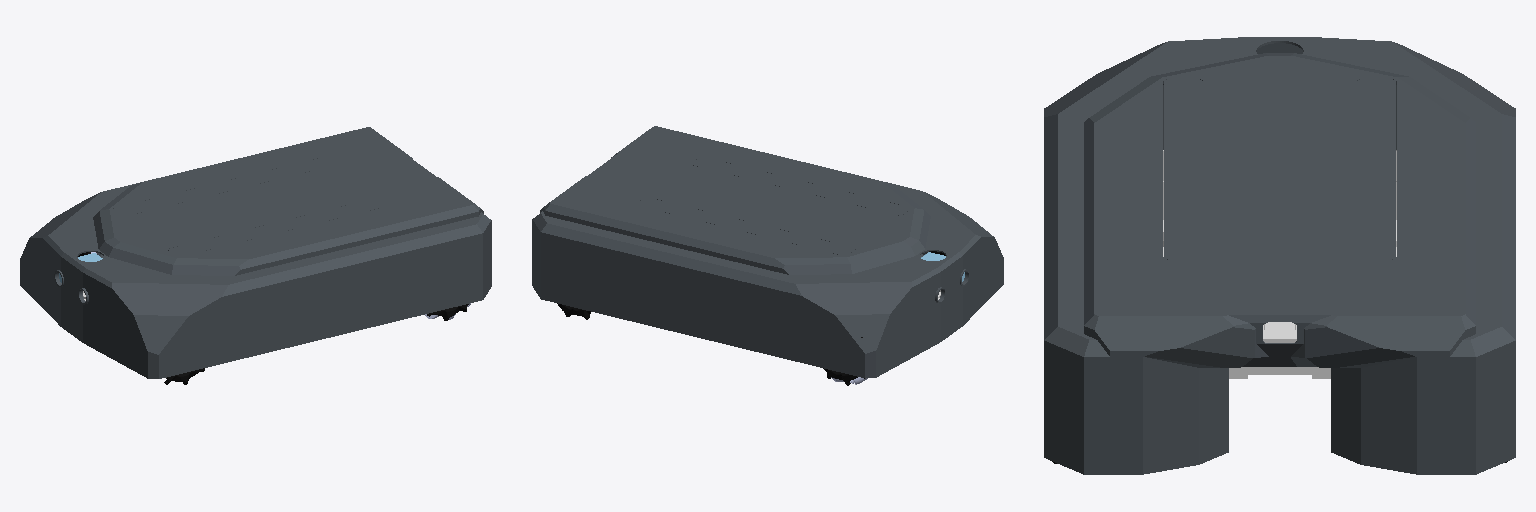
--- What the picture shows (computed from the rendered views, not written in the file) ---
Views: 3 orthographic renders of the robot side by side, from view 1: azimuth 30°, elevation 25°; view 2: azimuth 150°, elevation 25°; view 3: azimuth 270°, elevation 25°.
Robot: sora — 7 links, 6 joints (4 continuous, 2 prismatic); root link baseplate; default pose: all joints at 0.
Links seen in each view (by area): view 1: baseplate, liftingmechanism_2, liftingmechanism; view 2: baseplate, liftingmechanism, liftingmechanism_2; view 3: baseplate, liftingmechanism, liftingmechanism_2.
Link boxes in pixels (<box>): baseplate: <box>20,127,491,378</box>; liftingmechanism_2: <box>168,198,387,256</box>; liftingmechanism: <box>113,158,332,215</box>; baseplate: <box>532,126,1003,378</box>; liftingmechanism: <box>636,197,855,255</box>; liftingmechanism_2: <box>691,157,910,215</box>; baseplate: <box>1044,37,1515,474</box>; liftingmechanism: <box>1357,79,1395,259</box>; liftingmechanism_2: <box>1164,79,1202,259</box>.
Size in the robot's own frame: 0.561 by 0.358 by 0.1483 metres.
72 mesh visuals loaded from 31 distinct referenced files (29 binary STL); not drawn: 20 (reference not matched to a file when rendering).

The robot description file, URDF, robot "sora":
<?xml version='1.0' encoding='utf-8'?>
<robot name="sora">
  
  <link name="baseplate">
    <inertial>
      <origin xyz="0.119135 0 0.0201995" rpy="0 0 0" />
      <mass value="7.5335" />
      <inertia ixx="0.0807944" ixy="2.24408e-07" ixz="-0.00609972" iyy="0.184527" iyz="6.1332e-08" izz="0.249357" />
    </inertial>
    
    <visual>
      <origin xyz="0.3085 -0.1 0.024" rpy="-1.5708 0 3.14159" />
      <geometry>
        <mesh filename="package://robot_description/assets/motor.stl" />
      </geometry>
      <material name="motor_material">
        <color rgba="0.647059 0.647059 0.647059 1" />
      </material>
    </visual>
    <collision>
      <origin xyz="0.3085 -0.1 0.024" rpy="-1.5708 0 3.14159" />
      <geometry>
        <mesh filename="package://robot_description/assets/motor.stl" />
      </geometry>
    </collision>
    
    <visual>
      <origin xyz="0.3085 -0.1 0.024" rpy="-1.5708 0 3.14159" />
      <geometry>
        <mesh filename="package://robot_description/assets/motorcap.stl" />
      </geometry>
      <material name="motorcap_material">
        <color rgba="0.231373 0.380392 0.705882 1" />
      </material>
    </visual>
    <collision>
      <origin xyz="0.3085 -0.1 0.024" rpy="-1.5708 0 3.14159" />
      <geometry>
        <mesh filename="package://robot_description/assets/motorcap.stl" />
      </geometry>
    </collision>
    
    <visual>
      <origin xyz="0.3085 -0.1 0.024" rpy="-1.5708 0 3.14159" />
      <geometry>
        <mesh filename="package://robot_description/assets/gearhousing.stl" />
      </geometry>
      <material name="gearhousing_material">
        <color rgba="0.615686 0.811765 0.929412 1" />
      </material>
    </visual>
    <collision>
      <origin xyz="0.3085 -0.1 0.024" rpy="-1.5708 0 3.14159" />
      <geometry>
        <mesh filename="package://robot_description/assets/gearhousing.stl" />
      </geometry>
    </collision>
    
    <visual>
      <origin xyz="-0.0835 -0.1 0.024" rpy="1.5708 0 0" />
      <geometry>
        <mesh filename="package://robot_description/assets/motor.stl" />
      </geometry>
      <material name="motor_2_material">
        <color rgba="0.647059 0.647059 0.647059 1" />
      </material>
    </visual>
    <collision>
      <origin xyz="-0.0835 -0.1 0.024" rpy="1.5708 0 0" />
      <geometry>
        <mesh filename="package://robot_description/assets/motor.stl" />
      </geometry>
    </collision>
    
    <visual>
      <origin xyz="-0.0835 -0.1 0.024" rpy="1.5708 0 0" />
      <geometry>
        <mesh filename="package://robot_description/assets/motorcap.stl" />
      </geometry>
      <material name="motorcap_2_material">
        <color rgba="0.231373 0.380392 0.705882 1" />
      </material>
    </visual>
    <collision>
      <origin xyz="-0.0835 -0.1 0.024" rpy="1.5708 0 0" />
      <geometry>
        <mesh filename="package://robot_description/assets/motorcap.stl" />
      </geometry>
    </collision>
    
    <visual>
      <origin xyz="-0.0835 -0.1 0.024" rpy="1.5708 0 0" />
      <geometry>
        <mesh filename="package://robot_description/assets/gearhousing.stl" />
      </geometry>
      <material name="gearhousing_2_material">
        <color rgba="0.615686 0.811765 0.929412 1" />
      </material>
    </visual>
    <collision>
      <origin xyz="-0.0835 -0.1 0.024" rpy="1.5708 0 0" />
      <geometry>
        <mesh filename="package://robot_description/assets/gearhousing.stl" />
      </geometry>
    </collision>
    
    <visual>
      <origin xyz="-0.0835 0.1 0.024" rpy="-1.5708 0 0" />
      <geometry>
        <mesh filename="package://robot_description/assets/motor.stl" />
      </geometry>
      <material name="motor_3_material">
        <color rgba="0.647059 0.647059 0.647059 1" />
      </material>
    </visual>
    <collision>
      <origin xyz="-0.0835 0.1 0.024" rpy="-1.5708 0 0" />
      <geometry>
        <mesh filename="package://robot_description/assets/motor.stl" />
      </geometry>
    </collision>
    
    <visual>
      <origin xyz="-0.0835 0.1 0.024" rpy="-1.5708 0 0" />
      <geometry>
        <mesh filename="package://robot_description/assets/motorcap.stl" />
      </geometry>
      <material name="motorcap_3_material">
        <color rgba="0.231373 0.380392 0.705882 1" />
      </material>
    </visual>
    <collision>
      <origin xyz="-0.0835 0.1 0.024" rpy="-1.5708 0 0" />
      <geometry>
        <mesh filename="package://robot_description/assets/motorcap.stl" />
      </geometry>
    </collision>
    
    <visual>
      <origin xyz="-0.0835 0.1 0.024" rpy="-1.5708 0 0" />
      <geometry>
        <mesh filename="package://robot_description/assets/gearhousing.stl" />
      </geometry>
      <material name="gearhousing_3_material">
        <color rgba="0.615686 0.811765 0.929412 1" />
      </material>
    </visual>
    <collision>
      <origin xyz="-0.0835 0.1 0.024" rpy="-1.5708 0 0" />
      <geometry>
        <mesh filename="package://robot_description/assets/gearhousing.stl" />
      </geometry>
    </collision>
    
    <visual>
      <origin xyz="0 0 0" rpy="0 0 0" />
      <geometry>
        <mesh filename="package://robot_description/assets/shell_middle_left.stl" />
      </geometry>
      <material name="shell_middle_left_material">
        <color rgba="0.34902 0.376471 0.4 1" />
      </material>
    </visual>
    <collision>
      <origin xyz="0 0 0" rpy="0 0 0" />
      <geometry>
        <mesh filename="package://robot_description/assets/shell_middle_left.stl" />
      </geometry>
    </collision>
    
    <visual>
      <origin xyz="0 0 0" rpy="0 0 0" />
      <geometry>
        <mesh filename="package://robot_description/assets/shell_middle_right.stl" />
      </geometry>
      <material name="shell_middle_right_material">
        <color rgba="0.34902 0.376471 0.4 1" />
      </material>
    </visual>
    <collision>
      <origin xyz="0 0 0" rpy="0 0 0" />
      <geometry>
        <mesh filename="package://robot_description/assets/shell_middle_right.stl" />
      </geometry>
    </collision>
    
    <visual>
      <origin xyz="0 0 0" rpy="0 0 0" />
      <geometry>
        <mesh filename="package://robot_description/assets/shell_backhpanel_left.stl" />
      </geometry>
      <material name="shell_backhpanel_left_material">
        <color rgba="0.34902 0.376471 0.4 1" />
      </material>
    </visual>
    <collision>
      <origin xyz="0 0 0" rpy="0 0 0" />
      <geometry>
        <mesh filename="package://robot_description/assets/shell_backhpanel_left.stl" />
      </geometry>
    </collision>
    
    <visual>
      <origin xyz="0 0 0" rpy="0 0 0" />
      <geometry>
        <mesh filename="package://robot_description/assets/shell_front_left.stl" />
      </geometry>
      <material name="shell_front_left_material">
        <color rgba="0.34902 0.376471 0.4 1" />
      </material>
    </visual>
    <collision>
      <origin xyz="0 0 0" rpy="0 0 0" />
      <geometry>
        <mesh filename="package://robot_description/assets/shell_front_left.stl" />
      </geometry>
    </collision>
    
    <visual>
      <origin xyz="0 0 0" rpy="0 0 0" />
      <geometry>
        <mesh filename="package://robot_description/assets/shell_back_right.stl" />
      </geometry>
      <material name="shell_back_right_material">
        <color rgba="0.34902 0.376471 0.4 1" />
      </material>
    </visual>
    <collision>
      <origin xyz="0 0 0" rpy="0 0 0" />
      <geometry>
        <mesh filename="package://robot_description/assets/shell_back_right.stl" />
      </geometry>
    </collision>
    
    <visual>
      <origin xyz="0 0 0" rpy="0 0 0" />
      <geometry>
        <mesh filename="package://robot_description/assets/shell_middlebridge.stl" />
      </geometry>
      <material name="shell_middlebridge_material">
        <color rgba="0.34902 0.376471 0.4 1" />
      </material>
    </visual>
    <collision>
      <origin xyz="0 0 0" rpy="0 0 0" />
      <geometry>
        <mesh filename="package://robot_description/assets/shell_middlebridge.stl" />
      </geometry>
    </collision>
    
    <visual>
      <origin xyz="0 0 0" rpy="0 0 0" />
      <geometry>
        <mesh filename="package://robot_description/assets/shell_backhpanel_right.stl" />
      </geometry>
      <material name="shell_backhpanel_right_material">
        <color rgba="0.34902 0.376471 0.4 1" />
      </material>
    </visual>
    <collision>
      <origin xyz="0 0 0" rpy="0 0 0" />
      <geometry>
        <mesh filename="package://robot_description/assets/shell_backhpanel_right.stl" />
      </geometry>
    </collision>
    
    <visual>
      <origin xyz="0 0 0" rpy="0 0 0" />
      <geometry>
        <mesh filename="package://robot_description/assets/shell_front_right.stl" />
      </geometry>
      <material name="shell_front_right_material">
        <color rgba="0.34902 0.376471 0.4 1" />
      </material>
    </visual>
    <collision>
      <origin xyz="0 0 0" rpy="0 0 0" />
      <geometry>
        <mesh filename="package://robot_description/assets/shell_front_right.stl" />
      </geometry>
    </collision>
    
    <visual>
      <origin xyz="0 0 0" rpy="0 0 0" />
      <geometry>
        <mesh filename="package://robot_description/assets/shell_back_left.stl" />
      </geometry>
      <material name="shell_back_left_material">
        <color rgba="0.34902 0.376471 0.4 1" />
      </material>
    </visual>
    <collision>
      <origin xyz="0 0 0" rpy="0 0 0" />
      <geometry>
        <mesh filename="package://robot_description/assets/shell_back_left.stl" />
      </geometry>
    </collision>
    
    <visual>
      <origin xyz="0 0 0" rpy="0 0 0" />
      <geometry>
        <mesh filename="package://robot_description/assets/baseplate.stl" />
      </geometry>
      <material name="baseplate_material">
        <color rgba="0.917647 0.917647 0.917647 1" />
      </material>
    </visual>
    <collision>
      <origin xyz="0 0 0" rpy="0 0 0" />
      <geometry>
        <mesh filename="package://robot_description/assets/baseplate.stl" />
      </geometry>
    </collision>
    
    <visual>
      <origin xyz="0.225 -0.005 0" rpy="0 0 3.14159" />
      <geometry>
        <mesh filename="package://robot_description/assets/motormount_fl_br.stl" />
      </geometry>
      <material name="motormount_fl_br_material">
        <color rgba="0.917647 0.917647 0.917647 1" />
      </material>
    </visual>
    <collision>
      <origin xyz="0.225 -0.005 0" rpy="0 0 3.14159" />
      <geometry>
        <mesh filename="package://robot_description/assets/motormount_fl_br.stl" />
      </geometry>
    </collision>
    
    <visual>
      <origin xyz="0.25185 0.14685 0" rpy="0 0 0" />
      <geometry>
        <mesh filename="package://robot_description/assets/liftpilar_front_left.stl" />
      </geometry>
      <material name="liftpilar_front_left_material">
        <color rgba="0.917647 0.917647 0.917647 1" />
      </material>
    </visual>
    <collision>
      <origin xyz="0.25185 0.14685 0" rpy="0 0 0" />
      <geometry>
        <mesh filename="package://robot_description/assets/liftpilar_front_left.stl" />
      </geometry>
    </collision>
    
    <visual>
      <origin xyz="-0.109 -0.005 -0.05" rpy="0 0 3.14159" />
      <geometry>
        <mesh filename="package://robot_description/assets/motormount_fr_bl.stl" />
      </geometry>
      <material name="motormount_fr_bl_material">
        <color rgba="0.917647 0.917647 0.917647 1" />
      </material>
    </visual>
    <collision>
      <origin xyz="-0.109 -0.005 -0.05" rpy="0 0 3.14159" />
      <geometry>
        <mesh filename="package://robot_description/assets/motormount_fr_bl.stl" />
      </geometry>
    </collision>
    
    <visual>
      <origin xyz="0.334 0.005 -0.05" rpy="0 0 0" />
      <geometry>
        <mesh filename="package://robot_description/assets/motormount_fr_bl.stl" />
      </geometry>
      <material name="motormount_fr_bl_2_material">
        <color rgba="0.917647 0.917647 0.917647 1" />
      </material>
    </visual>
    <collision>
      <origin xyz="0.334 0.005 -0.05" rpy="0 0 0" />
      <geometry>
        <mesh filename="package://robot_description/assets/motormount_fr_bl.stl" />
      </geometry>
    </collision>
    
    <visual>
      <origin xyz="0.2655 0 0.059" rpy="0 0 0" />
      <geometry>
        <mesh filename="package://robot_description/assets/batteryattachmentplate.stl" />
      </geometry>
      <material name="batteryattachmentplate_material">
        <color rgba="0.917647 0.917647 0.917647 1" />
      </material>
    </visual>
    <collision>
      <origin xyz="0.2655 0 0.059" rpy="0 0 0" />
      <geometry>
        <mesh filename="package://robot_description/assets/batteryattachmentplate.stl" />
      </geometry>
    </collision>
    
    <visual>
      <origin xyz="0 0.005 0" rpy="0 0 0" />
      <geometry>
        <mesh filename="package://robot_description/assets/motormount_fl_br.stl" />
      </geometry>
      <material name="motormount_fl_br_2_material">
        <color rgba="0.917647 0.917647 0.917647 1" />
      </material>
    </visual>
    <collision>
      <origin xyz="0 0.005 0" rpy="0 0 0" />
      <geometry>
        <mesh filename="package://robot_description/assets/motormount_fl_br.stl" />
      </geometry>
    </collision>
    
    <visual>
      <origin xyz="0.25185 0 0" rpy="0 0 0" />
      <geometry>
        <mesh filename="package://robot_description/assets/liftpilar_front_left.stl" />
      </geometry>
      <material name="liftpilar_front_left_2_material">
        <color rgba="0.917647 0.917647 0.917647 1" />
      </material>
    </visual>
    <collision>
      <origin xyz="0.25185 0 0" rpy="0 0 0" />
      <geometry>
        <mesh filename="package://robot_description/assets/liftpilar_front_left.stl" />
      </geometry>
    </collision>
    
    <visual>
      <origin xyz="0.260975 0.03615 0.09585" rpy="3.14159 0 1.5708" />
      <geometry>
        <mesh filename="package://robot_description/assets/stepper17hs4023.stl" />
      </geometry>
      <material name="stepper17hs4023_material">
        <color rgba="0.917647 0.917647 0.917647 1" />
      </material>
    </visual>
    <collision>
      <origin xyz="0.260975 0.03615 0.09585" rpy="3.14159 0 1.5708" />
      <geometry>
        <mesh filename="package://robot_description/assets/stepper17hs4023.stl" />
      </geometry>
    </collision>
    
    <visual>
      <origin xyz="0.260975 -0.03615 0.09585" rpy="3.14159 0 1.5708" />
      <geometry>
        <mesh filename="package://robot_description/assets/stepper17hs4023.stl" />
      </geometry>
      <material name="stepper17hs4023_2_material">
        <color rgba="0.917647 0.917647 0.917647 1" />
      </material>
    </visual>
    <collision>
      <origin xyz="0.260975 -0.03615 0.09585" rpy="3.14159 0 1.5708" />
      <geometry>
        <mesh filename="package://robot_description/assets/stepper17hs4023.stl" />
      </geometry>
    </collision>
    
    <visual>
      <origin xyz="0 0 0" rpy="0 0 0" />
      <geometry>
        <mesh filename="package://robot_description/assets/batterycompartment.stl" />
      </geometry>
      <material name="batterycompartment_material">
        <color rgba="0.917647 0.917647 0.917647 1" />
      </material>
    </visual>
    <collision>
      <origin xyz="0 0 0" rpy="0 0 0" />
      <geometry>
        <mesh filename="package://robot_description/assets/batterycompartment.stl" />
      </geometry>
    </collision>
    
    <visual>
      <origin xyz="0 0.14685 0" rpy="0 0 0" />
      <geometry>
        <mesh filename="package://robot_description/assets/liftpilar_front_left.stl" />
      </geometry>
      <material name="liftpilar_front_left_3_material">
        <color rgba="0.917647 0.917647 0.917647 1" />
      </material>
    </visual>
    <collision>
      <origin xyz="0 0.14685 0" rpy="0 0 0" />
      <geometry>
        <mesh filename="package://robot_description/assets/liftpilar_front_left.stl" />
      </geometry>
    </collision>
    
    <visual>
      <origin xyz="0 0 0" rpy="0 0 0" />
      <geometry>
        <mesh filename="package://robot_description/assets/liftpilar_front_left.stl" />
      </geometry>
      <material name="liftpilar_front_left_4_material">
        <color rgba="0.917647 0.917647 0.917647 1" />
      </material>
    </visual>
    <collision>
      <origin xyz="0 0 0" rpy="0 0 0" />
      <geometry>
        <mesh filename="package://robot_description/assets/liftpilar_front_left.stl" />
      </geometry>
    </collision>
    
    <visual>
      <origin xyz="0.3085 0.1 0.024" rpy="1.5708 0 3.14159" />
      <geometry>
        <mesh filename="package://robot_description/assets/motor.stl" />
      </geometry>
      <material name="motor_4_material">
        <color rgba="0.647059 0.647059 0.647059 1" />
      </material>
    </visual>
    <collision>
      <origin xyz="0.3085 0.1 0.024" rpy="1.5708 0 3.14159" />
      <geometry>
        <mesh filename="package://robot_description/assets/motor.stl" />
      </geometry>
    </collision>
    
    <visual>
      <origin xyz="0.3085 0.1 0.024" rpy="1.5708 0 3.14159" />
      <geometry>
        <mesh filename="package://robot_description/assets/motorcap.stl" />
      </geometry>
      <material name="motorcap_4_material">
        <color rgba="0.231373 0.380392 0.705882 1" />
      </material>
    </visual>
    <collision>
      <origin xyz="0.3085 0.1 0.024" rpy="1.5708 0 3.14159" />
      <geometry>
        <mesh filename="package://robot_description/assets/motorcap.stl" />
      </geometry>
    </collision>
    
    <visual>
      <origin xyz="0.3085 0.1 0.024" rpy="1.5708 0 3.14159" />
      <geometry>
        <mesh filename="package://robot_description/assets/gearhousing.stl" />
      </geometry>
      <material name="gearhousing_4_material">
        <color rgba="0.615686 0.811765 0.929412 1" />
      </material>
    </visual>
    <collision>
      <origin xyz="0.3085 0.1 0.024" rpy="1.5708 0 3.14159" />
      <geometry>
        <mesh filename="package://robot_description/assets/gearhousing.stl" />
      </geometry>
    </collision>
  </link>
  
  <link name="mecanum_wheel___right">
    <inertial>
      <origin xyz="0 0 -0.0129199" rpy="0 0 0" />
      <mass value="0.152526" />
      <inertia ixx="0.000118996" ixy="-5.72853e-10" ixz="5.70856e-10" iyy="0.000118997" iyz="2.24738e-10" izz="0.000205979" />
    </inertial>
    
    <visual>
      <origin xyz="-0.000310488 -0.0383357 -0.0121103" rpy="-0.74927 4.18434e-05 -1.5708" />
      <geometry>
        <mesh filename="package://robot_description/assets/roller.stl" />
      </geometry>
      <material name="roller_material">
        <color rgba="0.792157 0.819608 0.933333 1" />
      </material>
    </visual>
    <collision>
      <origin xyz="-0.000310488 -0.0383357 -0.0121103" rpy="-0.74927 4.18434e-05 -1.5708" />
      <geometry>
        <mesh filename="package://robot_description/assets/roller.stl" />
      </geometry>
    </collision>
    
    <visual>
      <origin xyz="-0.0330444 0.0194367 -0.0121103" rpy="-2.35641 0.271242 -0.26189" />
      <geometry>
        <mesh filename="package://robot_description/assets/roller.stl" />
      </geometry>
      <material name="roller_2_material">
        <color rgba="0.792157 0.819608 0.933333 1" />
      </material>
    </visual>
    <collision>
      <origin xyz="-0.0330444 0.0194367 -0.0121103" rpy="-2.35641 0.271242 -0.26189" />
      <geometry>
        <mesh filename="package://robot_description/assets/roller.stl" />
      </geometry>
    </collision>
    
    <visual>
      <origin xyz="0.0134033 0.0359176 -0.0121103" rpy="-0.812012 -0.352295 1.5708" />
      <geometry>
        <mesh filename="package://robot_description/assets/roller.stl" />
      </geometry>
      <material name="roller_3_material">
        <color rgba="0.792157 0.819608 0.933333 1" />
      </material>
    </visual>
    <collision>
      <origin xyz="0.0134033 0.0359176 -0.0121103" rpy="-0.812012 -0.352295 1.5708" />
      <geometry>
        <mesh filename="package://robot_description/assets/roller.stl" />
      </geometry>
    </collision>
    
    <visual>
      <origin xyz="0.0333549 0.018899 -0.0121103" rpy="-1.19596 -0.749657 1.5708" />
      <geometry>
        <mesh filename="package://robot_description/assets/roller.stl" />
      </geometry>
      <material name="roller_4_material">
        <color rgba="0.792157 0.819608 0.933333 1" />
      </material>
    </visual>
    <collision>
      <origin xyz="0.0333549 0.018899 -0.0121103" rpy="-1.19596 -0.749657 1.5708" />
      <geometry>
        <mesh filename="package://robot_description/assets/roller.stl" />
      </geometry>
    </collision>
    
    <visual>
      <origin xyz="-0.0128198 0.03613 -0.0121103" rpy="-2.03979 0.702002 -0.316223" />
      <geometry>
        <mesh filename="package://robot_description/assets/roller.stl" />
      </geometry>
      <material name="roller_5_material">
        <color rgba="0.792157 0.819608 0.933333 1" />
      </material>
    </visual>
    <collision>
      <origin xyz="-0.0128198 0.03613 -0.0121103" rpy="-2.03979 0.702002 -0.316223" />
      <geometry>
        <mesh filename="package://robot_description/assets/roller.stl" />
      </geometry>
    </collision>
    
    <visual>
      <origin xyz="0 0 -0.0284" rpy="-1.5708 0 0" />
      <geometry>
        <mesh filename="package://robot_description/assets/wheelhub.stl" />
      </geometry>
      <material name="wheelhub_material">
        <color rgba="0.854902 0.854902 0.854902 1" />
      </material>
    </visual>
    <collision>
      <origin xyz="0 0 -0.0284" rpy="-1.5708 0 0" />
      <geometry>
        <mesh filename="package://robot_description/assets/wheelhub.stl" />
      </geometry>
    </collision>
    
    <visual>
      <origin xyz="-0.0378072 -0.00635115 -0.0121103" rpy="-2.38875 -0.087437 0.0929364" />
      <geometry>
        <mesh filename="package://robot_description/assets/roller.stl" />
      </geometry>
      <material name="roller_6_material">
        <color rgba="0.792157 0.819608 0.933333 1" />
      </material>
    </visual>
    <collision>
      <origin xyz="-0.0378072 -0.00635115 -0.0121103" rpy="-2.38875 -0.087437 0.0929364" />
      <geometry>
        <mesh filename="package://robot_description/assets/roller.stl" />
      </geometry>
    </collision>
    
    <visual>
      <origin xyz="0 0 -0.0124" rpy="-1.5708 0 0" />
      <geometry>
        <mesh filename="package://robot_description/assets/rim_inside.stl" />
      </geometry>
      <material name="rim_inside_material">
        <color rgba="0.101961 0.101961 0.101961 1" />
      </material>
    </visual>
    <collision>
      <origin xyz="0 0 -0.0124" rpy="-1.5708 0 0" />
      <geometry>
        <mesh filename="package://robot_description/assets/rim_inside.stl" />
      </geometry>
    </collision>
    
    <visual>
      <origin xyz="-0.0248796 -0.0291673 -0.0121103" rpy="-0.975317 -0.604636 -1.5708" />
      <geometry>
        <mesh filename="package://robot_description/assets/roller.stl" />
      </geometry>
      <material name="roller_7_material">
        <color rgba="0.792157 0.819608 0.933333 1" />
      </material>
    </visual>
    <collision>
      <origin xyz="-0.0248796 -0.0291673 -0.0121103" rpy="-0.975317 -0.604636 -1.5708" />
      <geometry>
        <mesh filename="package://robot_description/assets/roller.stl" />
      </geometry>
    </collision>
    
    <visual>
      <origin xyz="0.0244039 -0.0295664 -0.0121103" rpy="-2.26632 0.479593 2.77397" />
      <geometry>
        <mesh filename="package://robot_description/assets/roller.stl" />
      </geometry>
      <material name="roller_8_material">
        <color rgba="0.792157 0.819608 0.933333 1" />
      </material>
    </visual>
    <collision>
      <origin xyz="0.0244039 -0.0295664 -0.0121103" rpy="-2.26632 0.479593 2.77397" />
      <geometry>
        <mesh filename="package://robot_description/assets/roller.stl" />
      </geometry>
    </collision>
    
    <visual>
      <origin xyz="0.0376994 -0.00696269 -0.0121103" rpy="-2.38875 0.0873977 3.0487" />
      <geometry>
        <mesh filename="package://robot_description/assets/roller.stl" />
      </geometry>
      <material name="roller_9_material">
        <color rgba="0.792157 0.819608 0.933333 1" />
      </material>
    </visual>
    <collision>
      <origin xyz="0.0376994 -0.00696269 -0.0121103" rpy="-2.38875 0.0873977 3.0487" />
      <geometry>
        <mesh filename="package://robot_description/assets/roller.stl" />
      </geometry>
    </collision>
    
    <visual>
      <origin xyz="0 0 -0.0124" rpy="1.5708 0 3.14159" />
      <geometry>
        <mesh filename="package://robot_description/assets/rim_outside.stl" />
      </geometry>
      <material name="rim_outside_material">
        <color rgba="0.101961 0.101961 0.101961 1" />
      </material>
    </visual>
    <collision>
      <origin xyz="0 0 -0.0124" rpy="1.5708 0 3.14159" />
      <geometry>
        <mesh filename="package://robot_description/assets/rim_outside.stl" />
      </geometry>
    </collision>
  </link>
  
  <joint name="Wheel_FR" type="continuous">
    <origin xyz="-0.0925 0.14 0.024" rpy="1.5708 0 0" />
    <parent link="baseplate" />
    <child link="mecanum_wheel___right" />
    <axis xyz="0 0 1" />
  </joint>
  
  <link name="mecanum_wheel___left">
    <inertial>
      <origin xyz="0 0 -0.0129199" rpy="0 0 0" />
      <mass value="0.152525" />
      <inertia ixx="0.000118996" ixy="-6.21386e-10" ixz="-1.00056e-09" iyy="0.000118995" iyz="-2.08104e-12" izz="0.00020598" />
    </inertial>
    
    <visual>
      <origin xyz="-0.0134033 0.0359176 -0.0121103" rpy="-0.812012 0.352295 -1.5708" />
      <geometry>
        <mesh filename="package://robot_description/assets/roller__2.stl" />
      </geometry>
      <material name="roller_10_material">
        <color rgba="0.792157 0.819608 0.933333 1" />
      </material>
    </visual>
    <collision>
      <origin xyz="-0.0134033 0.0359176 -0.0121103" rpy="-0.812012 0.352295 -1.5708" />
      <geometry>
        <mesh filename="package://robot_description/assets/roller__2.stl" />
      </geometry>
    </collision>
    
    <visual>
      <origin xyz="0.0330444 0.0194367 -0.0121103" rpy="-2.35641 -0.271242 0.26189" />
      <geometry>
        <mesh filename="package://robot_description/assets/roller__2.stl" />
      </geometry>
      <material name="roller_11_material">
        <color rgba="0.792157 0.819608 0.933333 1" />
      </material>
    </visual>
    <collision>
      <origin xyz="0.0330444 0.0194367 -0.0121103" rpy="-2.35641 -0.271242 0.26189" />
      <geometry>
        <mesh filename="package://robot_description/assets/roller__2.stl" />
      </geometry>
    </collision>
    
    <visual>
      <origin xyz="0.0378072 -0.00635115 -0.0121103" rpy="-2.38875 0.087437 -0.0929364" />
      <geometry>
        <mesh filename="package://robot_description/assets/roller__2.stl" />
      </geometry>
      <material name="roller_12_material">
        <color rgba="0.792157 0.819608 0.933333 1" />
      </material>
    </visual>
    <collision>
      <origin xyz="0.0378072 -0.00635115 -0.0121103" rpy="-2.38875 0.087437 -0.0929364" />
      <geometry>
        <mesh filename="package://robot_description/assets/roller__2.stl" />
      </geometry>
    </collision>
    
    <visual>
      <origin xyz="-0.0244039 -0.0295664 -0.0121103" rpy="-2.26632 -0.479593 -2.77397" />
      <geometry>
        <mesh filename="package://robot_description/assets/roller__2.stl" />
      </geometry>
      <material name="roller_13_material">
        <color rgba="0.792157 0.819608 0.933333 1" />
      </material>
    </visual>
    <collision>
      <origin xyz="-0.0244039 -0.0295664 -0.0121103" rpy="-2.26632 -0.479593 -2.77397" />
      <geometry>
        <mesh filename="package://robot_description/assets/roller__2.stl" />
      </geometry>
    </collision>
    
    <visual>
      <origin xyz="0.0248796 -0.0291673 -0.0121103" rpy="-0.975317 0.604636 1.5708" />
      <geometry>
        <mesh filename="package://robot_description/assets/roller__2.stl" />
      </geometry>
      <material name="roller_14_material">
        <color rgba="0.792157 0.819608 0.933333 1" />
      </material>
    </visual>
    <collision>
      <origin xyz="0.0248796 -0.0291673 -0.0121103" rpy="-0.975317 0.604636 1.5708" />
      <geometry>
        <mesh filename="package://robot_description/assets/roller__2.stl" />
      </geometry>
    </collision>
    
    <visual>
      <origin xyz="0 0 -0.0124" rpy="1.5708 0 3.14159" />
      <geometry>
        <mesh filename="package://robot_description/assets/rim_inside__2.stl" />
      </geometry>
      <material name="rim_inside_2_material">
        <color rgba="0.101961 0.101961 0.101961 1" />
      </material>
    </visual>
    <collision>
      <origin xyz="0 0 -0.0124" rpy="1.5708 0 3.14159" />
      <geometry>
        <mesh filename="package://robot_description/assets/rim_inside__2.stl" />
      </geometry>
    </collision>
    
    <visual>
      <origin xyz="0 0 -0.0124" rpy="-1.5708 0 0" />
      <geometry>
        <mesh filename="package://robot_description/assets/rim_outside__2.stl" />
      </geometry>
      <material name="rim_outside_2_material">
        <color rgba="0.101961 0.101961 0.101961 1" />
      </material>
    </visual>
    <collision>
      <origin xyz="0 0 -0.0124" rpy="-1.5708 0 0" />
      <geometry>
        <mesh filename="package://robot_description/assets/rim_outside__2.stl" />
      </geometry>
    </collision>
    
    <visual>
      <origin xyz="0 0 -0.0284" rpy="-1.5708 0 0" />
      <geometry>
        <mesh filename="package://robot_description/assets/wheelhub__2.stl" />
      </geometry>
      <material name="wheelhub_2_material">
        <color rgba="0.854902 0.854902 0.854902 1" />
      </material>
    </visual>
    <collision>
      <origin xyz="0 0 -0.0284" rpy="-1.5708 0 0" />
      <geometry>
        <mesh filename="package://robot_description/assets/wheelhub__2.stl" />
      </geometry>
    </collision>
    
    <visual>
      <origin xyz="-0.0333549 0.018899 -0.0121103" rpy="-2.3564 0.271285 2.87967" />
      <geometry>
        <mesh filename="package://robot_description/assets/roller__2.stl" />
      </geometry>
      <material name="roller_15_material">
        <color rgba="0.792157 0.819608 0.933333 1" />
      </material>
    </visual>
    <collision>
      <origin xyz="-0.0333549 0.018899 -0.0121103" rpy="-2.3564 0.271285 2.87967" />
      <geometry>
        <mesh filename="package://robot_description/assets/roller__2.stl" />
      </geometry>
    </collision>
    
    <visual>
      <origin xyz="-0.0376994 -0.00696269 -0.0121103" rpy="-2.38875 -0.0873977 -3.0487" />
      <geometry>
        <mesh filename="package://robot_description/assets/roller__2.stl" />
      </geometry>
      <material name="roller_16_material">
        <color rgba="0.792157 0.819608 0.933333 1" />
      </material>
    </visual>
    <collision>
      <origin xyz="-0.0376994 -0.00696269 -0.0121103" rpy="-2.38875 -0.0873977 -3.0487" />
      <geometry>
        <mesh filename="package://robot_description/assets/roller__2.stl" />
      </geometry>
    </collision>
    
    <visual>
      <origin xyz="0.0128198 0.03613 -0.0121103" rpy="-0.812039 -0.352365 -1.5708" />
      <geometry>
        <mesh filename="package://robot_description/assets/roller__2.stl" />
      </geometry>
      <material name="roller_17_material">
        <color rgba="0.792157 0.819608 0.933333 1" />
      </material>
    </visual>
    <collision>
      <origin xyz="0.0128198 0.03613 -0.0121103" rpy="-0.812039 -0.352365 -1.5708" />
      <geometry>
        <mesh filename="package://robot_description/assets/roller__2.stl" />
      </geometry>
    </collision>
    
    <visual>
      <origin xyz="0.000310488 -0.0383357 -0.0121103" rpy="-0.74927 -4.18434e-05 1.5708" />
      <geometry>
        <mesh filename="package://robot_description/assets/roller__2.stl" />
      </geometry>
      <material name="roller_18_material">
        <color rgba="0.792157 0.819608 0.933333 1" />
      </material>
    </visual>
    <collision>
      <origin xyz="0.000310488 -0.0383357 -0.0121103" rpy="-0.74927 -4.18434e-05 1.5708" />
      <geometry>
        <mesh filename="package://robot_description/assets/roller__2.stl" />
      </geometry>
    </collision>
  </link>
  
  <joint name="Wheel_FL" type="continuous">
    <origin xyz="-0.0925 -0.14 0.024" rpy="-1.5708 0 0" />
    <parent link="baseplate" />
    <child link="mecanum_wheel___left" />
    <axis xyz="0 0 1" />
  </joint>
  
  <link name="mecanum_wheel___left_2">
    <inertial>
      <origin xyz="0 0 -0.0129199" rpy="0 0 0" />
      <mass value="0.152525" />
      <inertia ixx="0.000118996" ixy="-6.21386e-10" ixz="1.00056e-09" iyy="0.000118995" iyz="2.08104e-12" izz="0.00020598" />
    </inertial>
    
    <visual>
      <origin xyz="0.0134033 -0.0359176 -0.0121103" rpy="-0.812012 0.352295 1.5708" />
      <geometry>
        <mesh filename="package://robot_description/assets/roller__2.stl" />
      </geometry>
      <material name="roller_19_material">
        <color rgba="0.792157 0.819608 0.933333 1" />
      </material>
    </visual>
    <collision>
      <origin xyz="0.0134033 -0.0359176 -0.0121103" rpy="-0.812012 0.352295 1.5708" />
      <geometry>
        <mesh filename="package://robot_description/assets/roller__2.stl" />
      </geometry>
    </collision>
    
    <visual>
      <origin xyz="-0.0330444 -0.0194367 -0.0121103" rpy="-2.35641 -0.271242 -2.8797" />
      <geometry>
        <mesh filename="package://robot_description/assets/roller__2.stl" />
      </geometry>
      <material name="roller_20_material">
        <color rgba="0.792157 0.819608 0.933333 1" />
      </material>
    </visual>
    <collision>
      <origin xyz="-0.0330444 -0.0194367 -0.0121103" rpy="-2.35641 -0.271242 -2.8797" />
      <geometry>
        <mesh filename="package://robot_description/assets/roller__2.stl" />
      </geometry>
    </collision>
    
    <visual>
      <origin xyz="-0.0378072 0.00635115 -0.0121103" rpy="-2.38875 0.087437 3.04866" />
      <geometry>
        <mesh filename="package://robot_description/assets/roller__2.stl" />
      </geometry>
      <material name="roller_21_material">
        <color rgba="0.792157 0.819608 0.933333 1" />
      </material>
    </visual>
    <collision>
      <origin xyz="-0.0378072 0.00635115 -0.0121103" rpy="-2.38875 0.087437 3.04866" />
      <geometry>
        <mesh filename="package://robot_description/assets/roller__2.stl" />
      </geometry>
    </collision>
    
    <visual>
      <origin xyz="0.0244039 0.0295664 -0.0121103" rpy="-2.26632 -0.479593 0.367624" />
      <geometry>
        <mesh filename="package://robot_description/assets/roller__2.stl" />
      </geometry>
      <material name="roller_22_material">
        <color rgba="0.792157 0.819608 0.933333 1" />
      </material>
    </visual>
    <collision>
      <origin xyz="0.0244039 0.0295664 -0.0121103" rpy="-2.26632 -0.479593 0.367624" />
      <geometry>
        <mesh filename="package://robot_description/assets/roller__2.stl" />
      </geometry>
    </collision>
    
    <visual>
      <origin xyz="-0.0248796 0.0291673 -0.0121103" rpy="-0.975317 0.604636 -1.5708" />
      <geometry>
        <mesh filename="package://robot_description/assets/roller__2.stl" />
      </geometry>
      <material name="roller_23_material">
        <color rgba="0.792157 0.819608 0.933333 1" />
      </material>
    </visual>
    <collision>
      <origin xyz="-0.0248796 0.0291673 -0.0121103" rpy="-0.975317 0.604636 -1.5708" />
      <geometry>
        <mesh filename="package://robot_description/assets/roller__2.stl" />
      </geometry>
    </collision>
    
    <visual>
      <origin xyz="0 0 -0.0124" rpy="1.5708 0 0" />
      <geometry>
        <mesh filename="package://robot_description/assets/rim_inside__2.stl" />
      </geometry>
      <material name="rim_inside_3_material">
        <color rgba="0.101961 0.101961 0.101961 1" />
      </material>
    </visual>
    <collision>
      <origin xyz="0 0 -0.0124" rpy="1.5708 0 0" />
      <geometry>
        <mesh filename="package://robot_description/assets/rim_inside__2.stl" />
      </geometry>
    </collision>
    
    <visual>
      <origin xyz="0 0 -0.0124" rpy="-1.5708 0 3.14159" />
      <geometry>
        <mesh filename="package://robot_description/assets/rim_outside__2.stl" />
      </geometry>
      <material name="rim_outside_3_material">
        <color rgba="0.101961 0.101961 0.101961 1" />
      </material>
    </visual>
    <collision>
      <origin xyz="0 0 -0.0124" rpy="-1.5708 0 3.14159" />
      <geometry>
        <mesh filename="package://robot_description/assets/rim_outside__2.stl" />
      </geometry>
    </collision>
    
    <visual>
      <origin xyz="0 0 -0.0284" rpy="-1.5708 0 3.14159" />
      <geometry>
        <mesh filename="package://robot_description/assets/wheelhub__2.stl" />
      </geometry>
      <material name="wheelhub_3_material">
        <color rgba="0.854902 0.854902 0.854902 1" />
      </material>
    </visual>
    <collision>
      <origin xyz="0 0 -0.0284" rpy="-1.5708 0 3.14159" />
      <geometry>
        <mesh filename="package://robot_description/assets/wheelhub__2.stl" />
      </geometry>
    </collision>
    
    <visual>
      <origin xyz="0.0333549 -0.018899 -0.0121103" rpy="-2.3564 0.271285 -0.261923" />
      <geometry>
        <mesh filename="package://robot_description/assets/roller__2.stl" />
      </geometry>
      <material name="roller_24_material">
        <color rgba="0.792157 0.819608 0.933333 1" />
      </material>
    </visual>
    <collision>
      <origin xyz="0.0333549 -0.018899 -0.0121103" rpy="-2.3564 0.271285 -0.261923" />
      <geometry>
        <mesh filename="package://robot_description/assets/roller__2.stl" />
      </geometry>
    </collision>
    
    <visual>
      <origin xyz="0.0376994 0.00696269 -0.0121103" rpy="-2.38875 -0.0873977 0.0928956" />
      <geometry>
        <mesh filename="package://robot_description/assets/roller__2.stl" />
      </geometry>
      <material name="roller_25_material">
        <color rgba="0.792157 0.819608 0.933333 1" />
      </material>
    </visual>
    <collision>
      <origin xyz="0.0376994 0.00696269 -0.0121103" rpy="-2.38875 -0.0873977 0.0928956" />
      <geometry>
        <mesh filename="package://robot_description/assets/roller__2.stl" />
      </geometry>
    </collision>
    
    <visual>
      <origin xyz="-0.0128198 -0.03613 -0.0121103" rpy="-0.812039 -0.352365 1.5708" />
      <geometry>
        <mesh filename="package://robot_description/assets/roller__2.stl" />
      </geometry>
      <material name="roller_26_material">
        <color rgba="0.792157 0.819608 0.933333 1" />
      </material>
    </visual>
    <collision>
      <origin xyz="-0.0128198 -0.03613 -0.0121103" rpy="-0.812039 -0.352365 1.5708" />
      <geometry>
        <mesh filename="package://robot_description/assets/roller__2.stl" />
      </geometry>
    </collision>
    
    <visual>
      <origin xyz="-0.000310488 0.0383357 -0.0121103" rpy="-0.74927 -4.18434e-05 -1.5708" />
      <geometry>
        <mesh filename="package://robot_description/assets/roller__2.stl" />
      </geometry>
      <material name="roller_27_material">
        <color rgba="0.792157 0.819608 0.933333 1" />
      </material>
    </visual>
    <collision>
      <origin xyz="-0.000310488 0.0383357 -0.0121103" rpy="-0.74927 -4.18434e-05 -1.5708" />
      <geometry>
        <mesh filename="package://robot_description/assets/roller__2.stl" />
      </geometry>
    </collision>
  </link>
  
  <joint name="Wheel_BR" type="continuous">
    <origin xyz="0.3175 0.14 0.024" rpy="-1.5708 0 3.14159" />
    <parent link="baseplate" />
    <child link="mecanum_wheel___left_2" />
    <axis xyz="0 0 1" />
  </joint>
  
  <link name="mecanum_wheel___right_2">
    <inertial>
      <origin xyz="0 0 -0.0129199" rpy="0 0 0" />
      <mass value="0.152526" />
      <inertia ixx="0.000118996" ixy="-5.72853e-10" ixz="-5.70856e-10" iyy="0.000118997" iyz="-2.24738e-10" izz="0.000205979" />
    </inertial>
    
    <visual>
      <origin xyz="0.000310488 0.0383357 -0.0121103" rpy="-0.74927 4.18434e-05 1.5708" />
      <geometry>
        <mesh filename="package://robot_description/assets/roller.stl" />
      </geometry>
      <material name="roller_28_material">
        <color rgba="0.792157 0.819608 0.933333 1" />
      </material>
    </visual>
    <collision>
      <origin xyz="0.000310488 0.0383357 -0.0121103" rpy="-0.74927 4.18434e-05 1.5708" />
      <geometry>
        <mesh filename="package://robot_description/assets/roller.stl" />
      </geometry>
    </collision>
    
    <visual>
      <origin xyz="0.0330444 -0.0194367 -0.0121103" rpy="-2.35641 0.271242 2.8797" />
      <geometry>
        <mesh filename="package://robot_description/assets/roller.stl" />
      </geometry>
      <material name="roller_29_material">
        <color rgba="0.792157 0.819608 0.933333 1" />
      </material>
    </visual>
    <collision>
      <origin xyz="0.0330444 -0.0194367 -0.0121103" rpy="-2.35641 0.271242 2.8797" />
      <geometry>
        <mesh filename="package://robot_description/assets/roller.stl" />
      </geometry>
    </collision>
    
    <visual>
      <origin xyz="-0.0134033 -0.0359176 -0.0121103" rpy="-0.812012 -0.352295 -1.5708" />
      <geometry>
        <mesh filename="package://robot_description/assets/roller.stl" />
      </geometry>
      <material name="roller_30_material">
        <color rgba="0.792157 0.819608 0.933333 1" />
      </material>
    </visual>
    <collision>
      <origin xyz="-0.0134033 -0.0359176 -0.0121103" rpy="-0.812012 -0.352295 -1.5708" />
      <geometry>
        <mesh filename="package://robot_description/assets/roller.stl" />
      </geometry>
    </collision>
    
    <visual>
      <origin xyz="-0.0333549 -0.018899 -0.0121103" rpy="-1.19596 -0.749657 -1.5708" />
      <geometry>
        <mesh filename="package://robot_description/assets/roller.stl" />
      </geometry>
      <material name="roller_31_material">
        <color rgba="0.792157 0.819608 0.933333 1" />
      </material>
    </visual>
    <collision>
      <origin xyz="-0.0333549 -0.018899 -0.0121103" rpy="-1.19596 -0.749657 -1.5708" />
      <geometry>
        <mesh filename="package://robot_description/assets/roller.stl" />
      </geometry>
    </collision>
    
    <visual>
      <origin xyz="0.0128198 -0.03613 -0.0121103" rpy="-2.03979 0.702002 2.82537" />
      <geometry>
        <mesh filename="package://robot_description/assets/roller.stl" />
      </geometry>
      <material name="roller_32_material">
        <color rgba="0.792157 0.819608 0.933333 1" />
      </material>
    </visual>
    <collision>
      <origin xyz="0.0128198 -0.03613 -0.0121103" rpy="-2.03979 0.702002 2.82537" />
      <geometry>
        <mesh filename="package://robot_description/assets/roller.stl" />
      </geometry>
    </collision>
    
    <visual>
      <origin xyz="0 0 -0.0284" rpy="-1.5708 0 -3.14159" />
      <geometry>
        <mesh filename="package://robot_description/assets/wheelhub.stl" />
      </geometry>
      <material name="wheelhub_4_material">
        <color rgba="0.854902 0.854902 0.854902 1" />
      </material>
    </visual>
    <collision>
      <origin xyz="0 0 -0.0284" rpy="-1.5708 0 -3.14159" />
      <geometry>
        <mesh filename="package://robot_description/assets/wheelhub.stl" />
      </geometry>
    </collision>
    
    <visual>
      <origin xyz="0.0378072 0.00635115 -0.0121103" rpy="-2.38875 -0.087437 -3.04866" />
      <geometry>
        <mesh filename="package://robot_description/assets/roller.stl" />
      </geometry>
      <material name="roller_33_material">
        <color rgba="0.792157 0.819608 0.933333 1" />
      </material>
    </visual>
    <collision>
      <origin xyz="0.0378072 0.00635115 -0.0121103" rpy="-2.38875 -0.087437 -3.04866" />
      <geometry>
        <mesh filename="package://robot_description/assets/roller.stl" />
      </geometry>
    </collision>
    
    <visual>
      <origin xyz="0 0 -0.0124" rpy="-1.5708 0 3.14159" />
      <geometry>
        <mesh filename="package://robot_description/assets/rim_inside.stl" />
      </geometry>
      <material name="rim_inside_4_material">
        <color rgba="0.101961 0.101961 0.101961 1" />
      </material>
    </visual>
    <collision>
      <origin xyz="0 0 -0.0124" rpy="-1.5708 0 3.14159" />
      <geometry>
        <mesh filename="package://robot_description/assets/rim_inside.stl" />
      </geometry>
    </collision>
    
    <visual>
      <origin xyz="0.0248796 0.0291673 -0.0121103" rpy="-0.975317 -0.604636 1.5708" />
      <geometry>
        <mesh filename="package://robot_description/assets/roller.stl" />
      </geometry>
      <material name="roller_34_material">
        <color rgba="0.792157 0.819608 0.933333 1" />
      </material>
    </visual>
    <collision>
      <origin xyz="0.0248796 0.0291673 -0.0121103" rpy="-0.975317 -0.604636 1.5708" />
      <geometry>
        <mesh filename="package://robot_description/assets/roller.stl" />
      </geometry>
    </collision>
    
    <visual>
      <origin xyz="-0.0244039 0.0295664 -0.0121103" rpy="-2.26632 0.479593 -0.367624" />
      <geometry>
        <mesh filename="package://robot_description/assets/roller.stl" />
      </geometry>
      <material name="roller_35_material">
        <color rgba="0.792157 0.819608 0.933333 1" />
      </material>
    </visual>
    <collision>
      <origin xyz="-0.0244039 0.0295664 -0.0121103" rpy="-2.26632 0.479593 -0.367624" />
      <geometry>
        <mesh filename="package://robot_description/assets/roller.stl" />
      </geometry>
    </collision>
    
    <visual>
      <origin xyz="-0.0376994 0.00696269 -0.0121103" rpy="-2.38875 0.0873977 -0.0928956" />
      <geometry>
        <mesh filename="package://robot_description/assets/roller.stl" />
      </geometry>
      <material name="roller_36_material">
        <color rgba="0.792157 0.819608 0.933333 1" />
      </material>
    </visual>
    <collision>
      <origin xyz="-0.0376994 0.00696269 -0.0121103" rpy="-2.38875 0.0873977 -0.0928956" />
      <geometry>
        <mesh filename="package://robot_description/assets/roller.stl" />
      </geometry>
    </collision>
    
    <visual>
      <origin xyz="0 0 -0.0124" rpy="1.5708 0 0" />
      <geometry>
        <mesh filename="package://robot_description/assets/rim_outside.stl" />
      </geometry>
      <material name="rim_outside_4_material">
        <color rgba="0.101961 0.101961 0.101961 1" />
      </material>
    </visual>
    <collision>
      <origin xyz="0 0 -0.0124" rpy="1.5708 0 0" />
      <geometry>
        <mesh filename="package://robot_description/assets/rim_outside.stl" />
      </geometry>
    </collision>
  </link>
  
  <joint name="Wheel_BL" type="continuous">
    <origin xyz="0.3175 -0.14 0.024" rpy="1.5708 0 3.14159" />
    <parent link="baseplate" />
    <child link="mecanum_wheel___right_2" />
    <axis xyz="0 0 1" />
  </joint>
  
  <link name="liftingmechanism">
    <inertial>
      <origin xyz="0.126142 5.49728e-05 -0.0137722" rpy="0 0 0" />
      <mass value="0.0957418" />
      <inertia ixx="7.04427e-05" ixy="7.5733e-10" ixz="3.42315e-07" iyy="0.000871632" iyz="1.32782e-07" izz="0.000819715" />
    </inertial>
    
    <visual>
      <origin xyz="0.126 0 -0.0725" rpy="3.14159 0 3.14159" />
      <geometry>
        <mesh filename="package://robot_description/assets/plug.stl" />
      </geometry>
      <material name="plug_material">
        <color rgba="0.231373 0.380392 0.705882 1" />
      </material>
    </visual>
    <collision>
      <origin xyz="0.126 0 -0.0725" rpy="3.14159 0 3.14159" />
      <geometry>
        <mesh filename="package://robot_description/assets/plug.stl" />
      </geometry>
    </collision>
    
    <visual>
      <origin xyz="0.1264 0 -0.0055" rpy="0 0 0" />
      <geometry>
        <mesh filename="package://robot_description/assets/liftingspool.stl" />
      </geometry>
      <material name="liftingspool_material">
        <color rgba="0.647059 0.647059 0.647059 1" />
      </material>
    </visual>
    <collision>
      <origin xyz="0.1264 0 -0.0055" rpy="0 0 0" />
      <geometry>
        <mesh filename="package://robot_description/assets/liftingspool.stl" />
      </geometry>
    </collision>
    
    <visual>
      <origin xyz="0.126 0 -0.0055" rpy="0 0 0" />
      <geometry>
        <mesh filename="package://robot_description/assets/liftingplatform1.stl" />
      </geometry>
      <material name="liftingplatform1_material">
        <color rgba="0.34902 0.376471 0.4 1" />
      </material>
    </visual>
    <collision>
      <origin xyz="0.126 0 -0.0055" rpy="0 0 0" />
      <geometry>
        <mesh filename="package://robot_description/assets/liftingplatform1.stl" />
      </geometry>
    </collision>
    
    <visual>
      <origin xyz="0.126 0 -0.0055" rpy="0 0 0" />
      <geometry>
        <mesh filename="package://robot_description/assets/plug.stl" />
      </geometry>
      <material name="plug_2_material">
        <color rgba="0.231373 0.380392 0.705882 1" />
      </material>
    </visual>
    <collision>
      <origin xyz="0.126 0 -0.0055" rpy="0 0 0" />
      <geometry>
        <mesh filename="package://robot_description/assets/plug.stl" />
      </geometry>
    </collision>
    
    <visual>
      <origin xyz="0.126 0 -0.0055" rpy="0 0 0" />
      <geometry>
        <mesh filename="package://robot_description/assets/liftingplatform2.stl" />
      </geometry>
      <material name="liftingplatform2_material">
        <color rgba="0.34902 0.376471 0.4 1" />
      </material>
    </visual>
    <collision>
      <origin xyz="0.126 0 -0.0055" rpy="0 0 0" />
      <geometry>
        <mesh filename="package://robot_description/assets/liftingplatform2.stl" />
      </geometry>
    </collision>
  </link>
  
  <joint name="Lift_Right" type="prismatic">
    <origin xyz="-0.015775 0.073425 0.104" rpy="0 0 0" />
    <parent link="baseplate" />
    <child link="liftingmechanism" />
    <axis xyz="0 0 1" />
    <limit effort="10" velocity="10" lower="0" upper="0.022" />
  </joint>
  
  <link name="liftingmechanism_2">
    <inertial>
      <origin xyz="0.126142 5.49728e-05 -0.0137722" rpy="0 0 0" />
      <mass value="0.0957418" />
      <inertia ixx="7.04427e-05" ixy="7.5733e-10" ixz="3.42315e-07" iyy="0.000871632" iyz="1.32782e-07" izz="0.000819715" />
    </inertial>
    
    <visual>
      <origin xyz="0.126 0 -0.0725" rpy="3.14159 0 3.14159" />
      <geometry>
        <mesh filename="package://robot_description/assets/plug.stl" />
      </geometry>
      <material name="plug_3_material">
        <color rgba="0.231373 0.380392 0.705882 1" />
      </material>
    </visual>
    <collision>
      <origin xyz="0.126 0 -0.0725" rpy="3.14159 0 3.14159" />
      <geometry>
        <mesh filename="package://robot_description/assets/plug.stl" />
      </geometry>
    </collision>
    
    <visual>
      <origin xyz="0.1264 0 -0.0055" rpy="0 0 0" />
      <geometry>
        <mesh filename="package://robot_description/assets/liftingspool.stl" />
      </geometry>
      <material name="liftingspool_2_material">
        <color rgba="0.647059 0.647059 0.647059 1" />
      </material>
    </visual>
    <collision>
      <origin xyz="0.1264 0 -0.0055" rpy="0 0 0" />
      <geometry>
        <mesh filename="package://robot_description/assets/liftingspool.stl" />
      </geometry>
    </collision>
    
    <visual>
      <origin xyz="0.126 0 -0.0055" rpy="0 0 0" />
      <geometry>
        <mesh filename="package://robot_description/assets/liftingplatform1.stl" />
      </geometry>
      <material name="liftingplatform1_2_material">
        <color rgba="0.34902 0.376471 0.4 1" />
      </material>
    </visual>
    <collision>
      <origin xyz="0.126 0 -0.0055" rpy="0 0 0" />
      <geometry>
        <mesh filename="package://robot_description/assets/liftingplatform1.stl" />
      </geometry>
    </collision>
    
    <visual>
      <origin xyz="0.126 0 -0.0055" rpy="0 0 0" />
      <geometry>
        <mesh filename="package://robot_description/assets/plug.stl" />
      </geometry>
      <material name="plug_4_material">
        <color rgba="0.231373 0.380392 0.705882 1" />
      </material>
    </visual>
    <collision>
      <origin xyz="0.126 0 -0.0055" rpy="0 0 0" />
      <geometry>
        <mesh filename="package://robot_description/assets/plug.stl" />
      </geometry>
    </collision>
    
    <visual>
      <origin xyz="0.126 0 -0.0055" rpy="0 0 0" />
      <geometry>
        <mesh filename="package://robot_description/assets/liftingplatform2.stl" />
      </geometry>
      <material name="liftingplatform2_2_material">
        <color rgba="0.34902 0.376471 0.4 1" />
      </material>
    </visual>
    <collision>
      <origin xyz="0.126 0 -0.0055" rpy="0 0 0" />
      <geometry>
        <mesh filename="package://robot_description/assets/liftingplatform2.stl" />
      </geometry>
    </collision>
  </link>
  
  <joint name="Lift_Left" type="prismatic">
    <origin xyz="-0.015775 -0.073425 0.104" rpy="0 0 0" />
    <parent link="baseplate" />
    <child link="liftingmechanism_2" />
    <axis xyz="0 0 1" />
    <limit effort="10" velocity="10" lower="0" upper="0.022" />
  </joint>

  <ros2_control name="sora_system" type="system">
    <hardware>
      <plugin>mock_components/GenericSystem</plugin>
      <param name="mock_sensor_commands">false</param>
      <param name="state_following_offset">0.0</param>
    </hardware>

    <!-- Front Right wheel -->
    <joint name="Wheel_FR">
      <command_interface name="velocity"/>
      <state_interface name="velocity"/>
      <state_interface name="position"/>
    </joint>

    <!-- Front Left wheel -->
    <joint name="Wheel_FL">
      <command_interface name="velocity"/>
      <state_interface name="velocity"/>
      <state_interface name="position"/>
    </joint>

    <!-- Back Right wheel -->
    <joint name="Wheel_BR">
      <command_interface name="velocity"/>
      <state_interface name="velocity"/>
      <state_interface name="position"/>
    </joint>

    <!-- Back Left wheel -->
    <joint name="Wheel_BL">
      <command_interface name="velocity"/>
      <state_interface name="velocity"/>
      <state_interface name="position"/>
    </joint>
  </ros2_control>

</robot>
